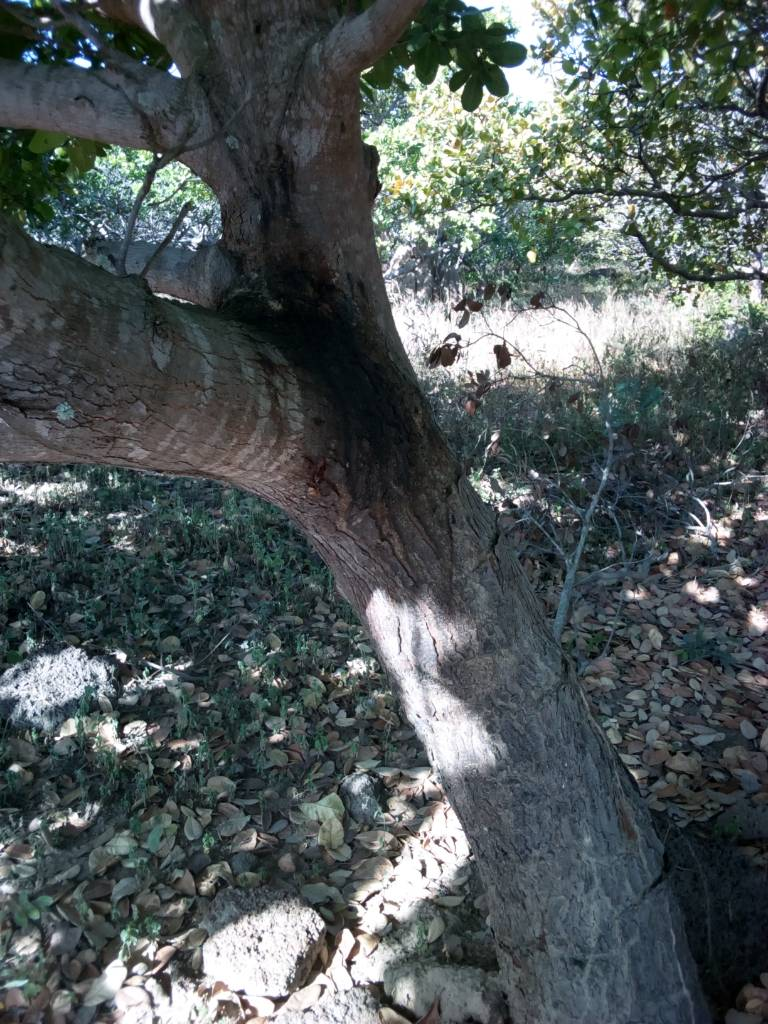Gommose: (236, 242, 425, 499)
